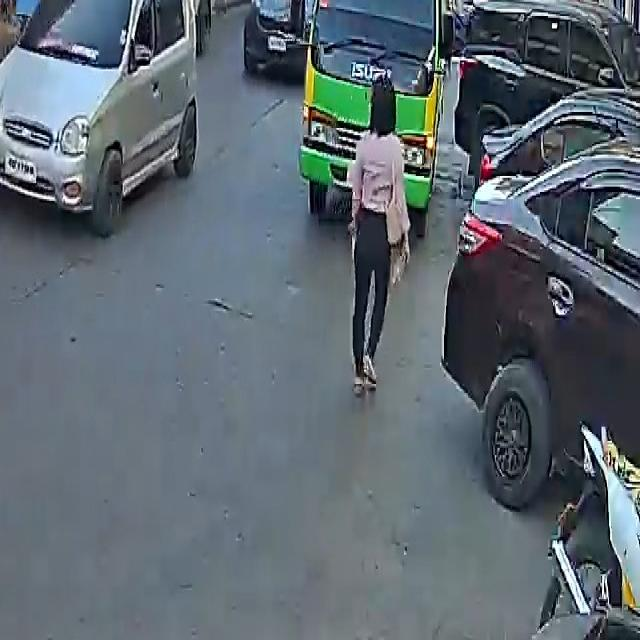car: (445, 103, 640, 517), (0, 0, 207, 231), (450, 0, 640, 174), (241, 0, 320, 78), (102, 0, 212, 21)
